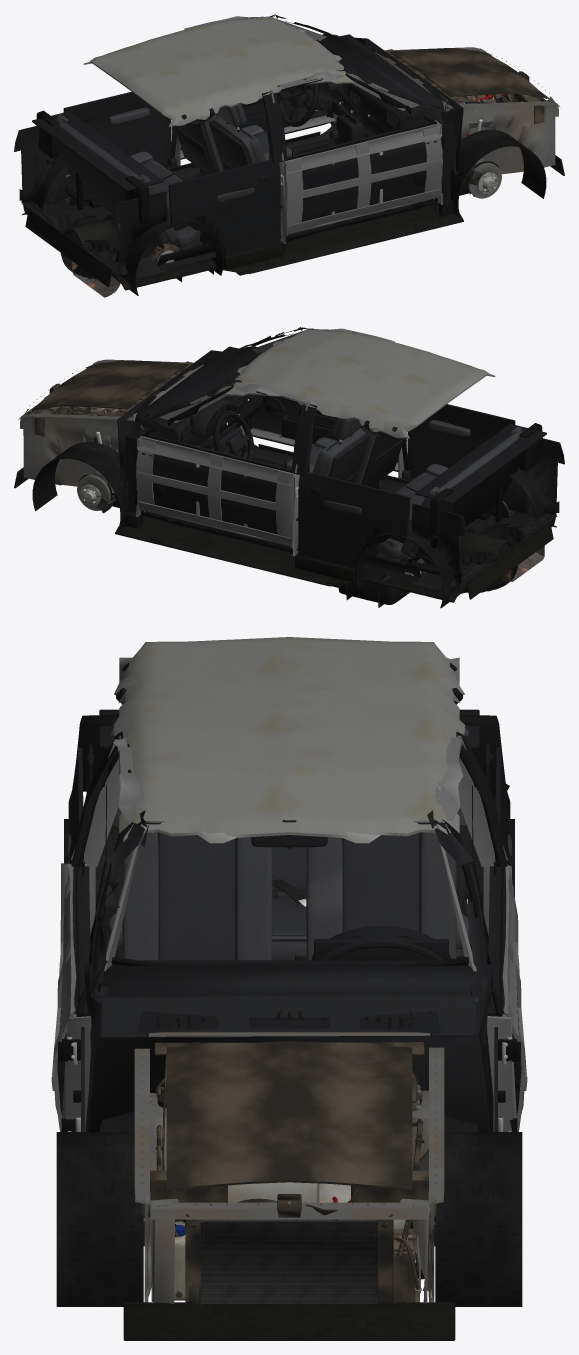
Rendered from caipora_completo.glb.
The picture shows the model from 3 angles, top to bottom: view 1: azimuth 30°, elevation 25°; view 2: azimuth 150°, elevation 25°; view 3: azimuth 270°, elevation 25°; orthographic projection. The views are drawn at different scales.
Parts seen in each view (by area): view 1: interior_forro_teto, interior_lateral_traseira_dir, door_card_fr_chapa, interior_painel, interior_portamalas_carpete, under_assoalho, door_card_fr, hood_manta, engine_paralama_interno_dir, interior_banco_traseiro, interior_lateral_traseira_esq, under_saias (+23 smaller); view 2: interior_forro_teto, interior_lateral_traseira_esq, door_card_fl_chapa, interior_painel, interior_portamalas_carpete, under_assoalho, door_card_fl, hood_manta, engine_paralama_interno_esq, interior_banco_traseiro, interior_lateral_traseira_dir, under_saias (+23 smaller); view 3: interior_forro_teto, interior_painel, hood_manta, engine_radiador, interior_banco_dianteiro_dir, under_caixa_roda_fl, under_caixa_roda_fr, interior_banco_dianteiro_esq, under_saias, engine_travessa, interior_acabamento_colunas, jamb_fr_colunas (+23 smaller).
Part boxes in pixels (bbox=[...]): interior_forro_teto: bbox=[83, 16, 357, 126]; interior_lateral_traseira_dir: bbox=[168, 159, 280, 270]; door_card_fr_chapa: bbox=[282, 123, 443, 236]; interior_painel: bbox=[308, 34, 463, 176]; interior_portamalas_carpete: bbox=[14, 126, 167, 279]; under_assoalho: bbox=[22, 200, 463, 290]; door_card_fr: bbox=[287, 122, 437, 221]; hood_manta: bbox=[390, 48, 546, 99]; engine_paralama_interno_dir: bbox=[444, 97, 559, 174]; interior_banco_traseiro: bbox=[54, 114, 202, 250]; interior_lateral_traseira_esq: bbox=[63, 91, 171, 199]; under_saias: bbox=[25, 155, 564, 287]; interior_forro_teto: bbox=[221, 329, 495, 439]; interior_lateral_traseira_esq: bbox=[298, 471, 410, 583]; door_card_fl_chapa: bbox=[135, 435, 296, 548]; interior_painel: bbox=[117, 346, 270, 488]; interior_portamalas_carpete: bbox=[405, 438, 564, 593]; under_assoalho: bbox=[115, 516, 556, 602]; door_card_fl: bbox=[141, 434, 291, 534]; hood_manta: bbox=[32, 360, 188, 412]; engine_paralama_interno_esq: bbox=[19, 410, 134, 492]; interior_banco_traseiro: bbox=[375, 426, 524, 563]; interior_lateral_traseira_dir: bbox=[407, 404, 515, 512]; under_saias: bbox=[14, 467, 553, 599]; interior_forro_teto: bbox=[113, 637, 465, 843]; interior_painel: bbox=[84, 926, 494, 1131]; hood_manta: bbox=[166, 1041, 412, 1191]; engine_radiador: bbox=[185, 1214, 393, 1306]; interior_banco_dianteiro_dir: bbox=[122, 832, 272, 960]; under_caixa_roda_fl: bbox=[435, 1132, 522, 1306]; under_caixa_roda_fr: bbox=[56, 1132, 143, 1306]; interior_banco_dianteiro_esq: bbox=[306, 832, 456, 960]; under_saias: bbox=[123, 1302, 455, 1340]; engine_travessa: bbox=[142, 1170, 436, 1304]; interior_acabamento_colunas: bbox=[71, 731, 507, 1007]; jamb_fr_colunas: bbox=[65, 738, 143, 1131].
Size of what is drawn, in the model's own units: 3.5 by 1.45 by 1.55.
Materials: 54 (54 with a texture image).
